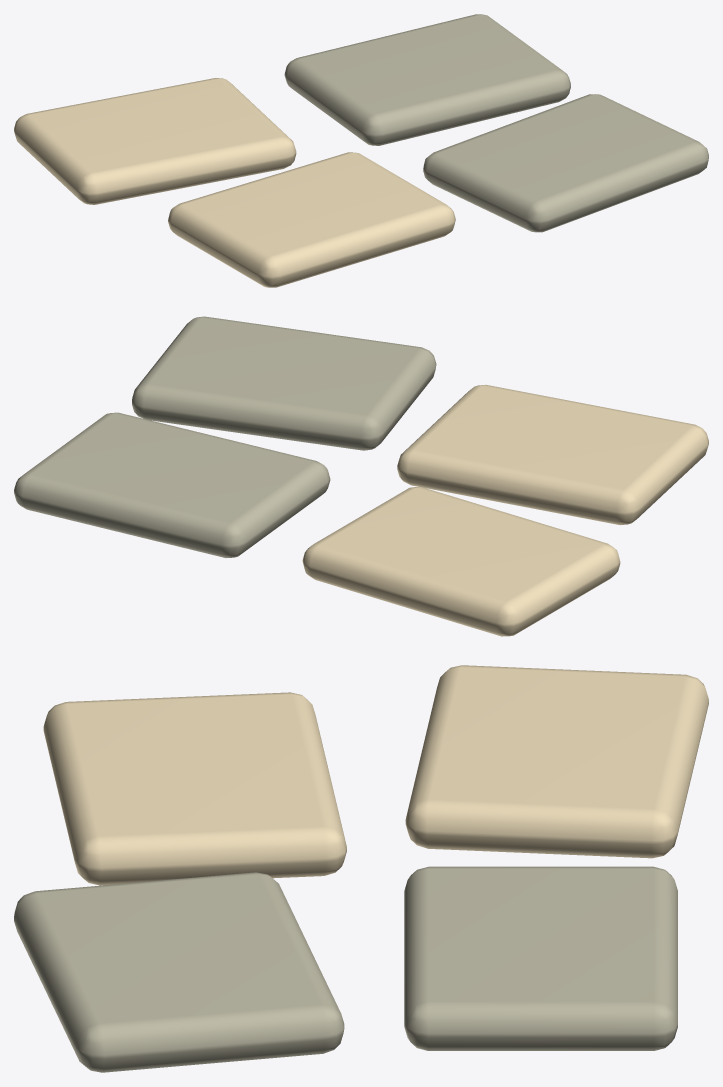
The model's file is pavers.glb.
3 views of the same model, one above another, from view 1: azimuth 30°, elevation 25°; view 2: azimuth 150°, elevation 25°; view 3: azimuth 270°, elevation 25° (orthographic). The views are drawn at different scales.
Parts seen in each view (by area): view 1: pavers_World_Mesh; view 2: pavers_World_Mesh; view 3: pavers_World_Mesh.
Part boxes in pixels (left/top/right/bottom): pavers_World_Mesh: left=14, top=14, right=708, bottom=287; pavers_World_Mesh: left=14, top=316, right=708, bottom=636; pavers_World_Mesh: left=14, top=665, right=708, bottom=1072.
Size of the model in its own units: 1.11 by 0.065 by 0.864.
